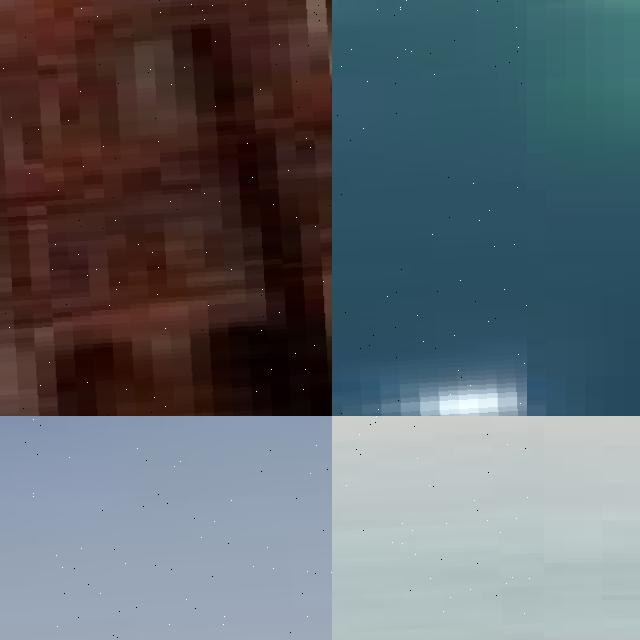street light: (0, 0, 332, 416), (332, 0, 527, 416), (0, 416, 332, 640), (332, 416, 544, 640)
